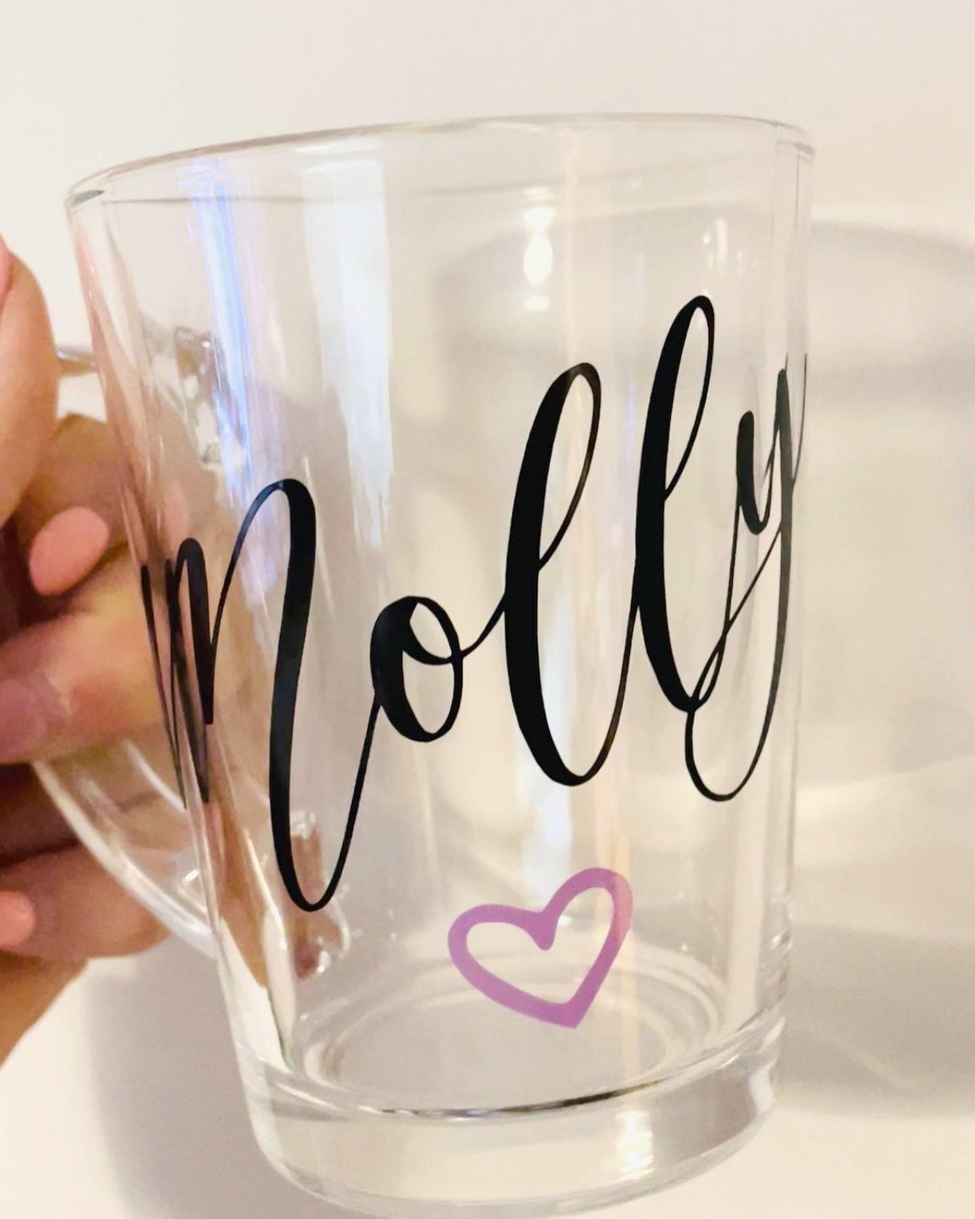glass-mug: (0, 97, 864, 1219)
